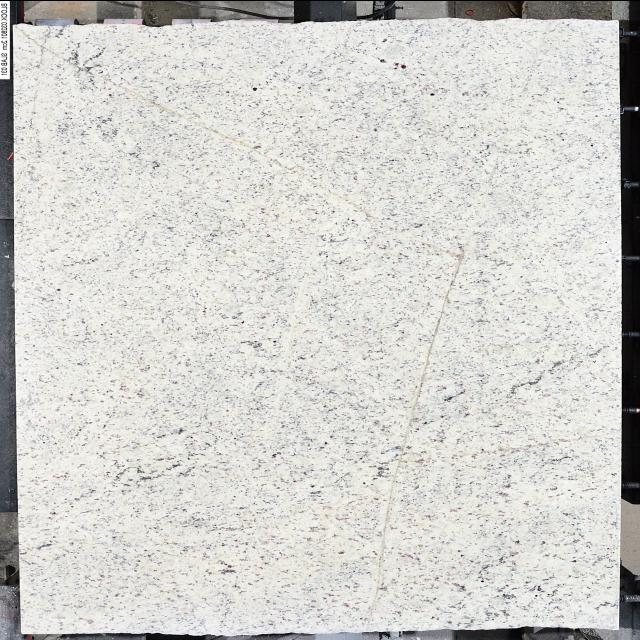chapa: (13, 18, 622, 634)
